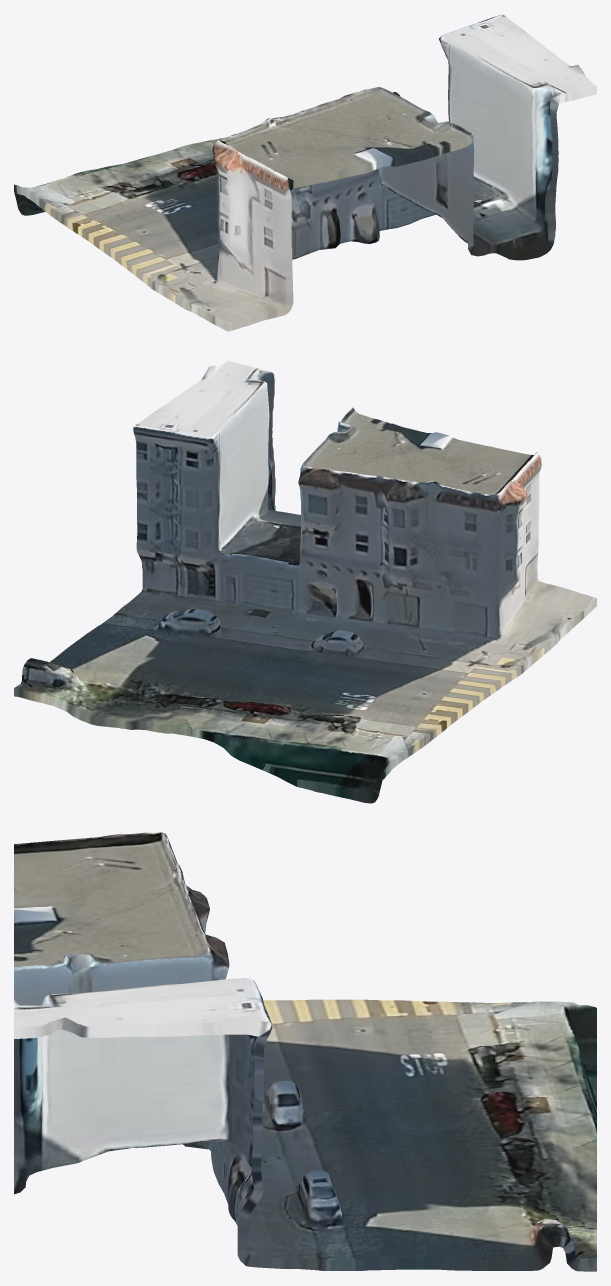
File: z20-167739-405195-h0-yup-uvflip-v3-world.glb
The picture shows the model from 3 angles, top to bottom: view 1: azimuth 30°, elevation 25°; view 2: azimuth 150°, elevation 25°; view 3: azimuth 270°, elevation 25°; orthographic projection. The views are drawn at different scales.
Bounding box in the file's own units: 30.16 × 16.32 × 30.32.
1 material, 1 textured.
